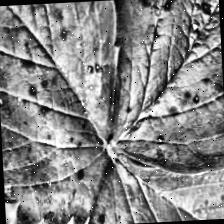Leaf Spot: (0, 0, 129, 224), (102, 0, 224, 179), (77, 145, 224, 224)
